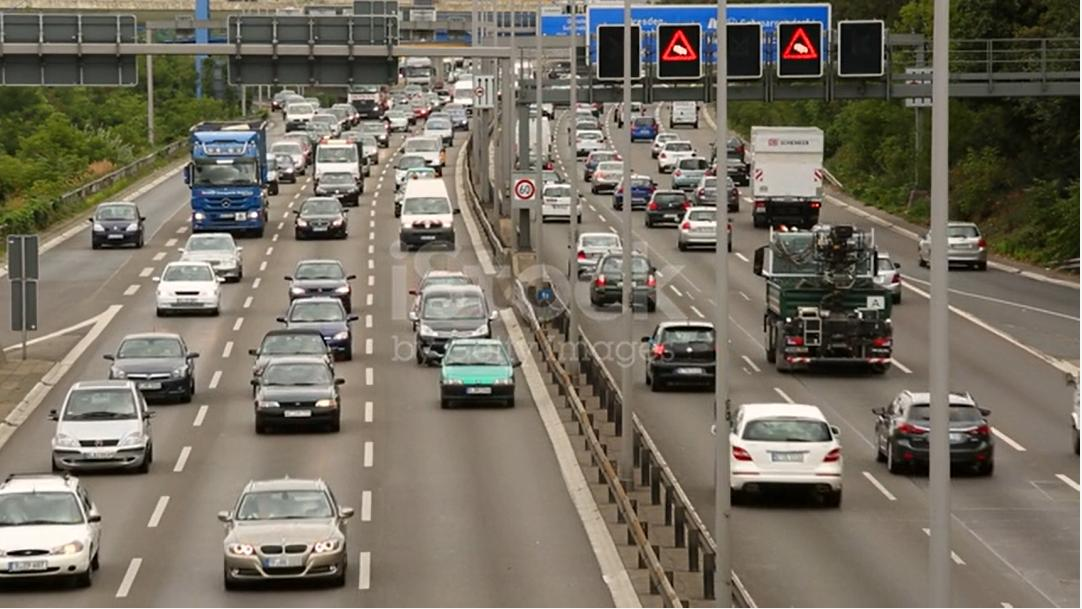car: (0, 446, 122, 608), (211, 467, 368, 592), (714, 391, 851, 516), (39, 369, 164, 497), (881, 381, 999, 493), (89, 315, 207, 422), (635, 311, 742, 409), (243, 357, 349, 442), (407, 285, 508, 366), (429, 329, 522, 409), (585, 243, 661, 324), (151, 253, 228, 330), (80, 191, 161, 261), (249, 325, 325, 398), (395, 177, 456, 266), (276, 293, 363, 353), (172, 221, 251, 286), (279, 257, 358, 316), (917, 221, 998, 277), (667, 203, 742, 258), (293, 195, 358, 249), (567, 227, 625, 278), (539, 173, 573, 240), (645, 179, 684, 236), (314, 166, 366, 205), (693, 170, 738, 214), (587, 154, 634, 195), (610, 171, 658, 211), (669, 154, 716, 194), (655, 135, 695, 178), (263, 147, 300, 186), (388, 151, 427, 185), (669, 99, 705, 132), (570, 126, 605, 159), (585, 150, 617, 179), (627, 114, 661, 141), (646, 134, 678, 155)
truck: (749, 217, 906, 392), (175, 110, 275, 255), (739, 120, 838, 238), (310, 134, 368, 189), (400, 134, 454, 178)
